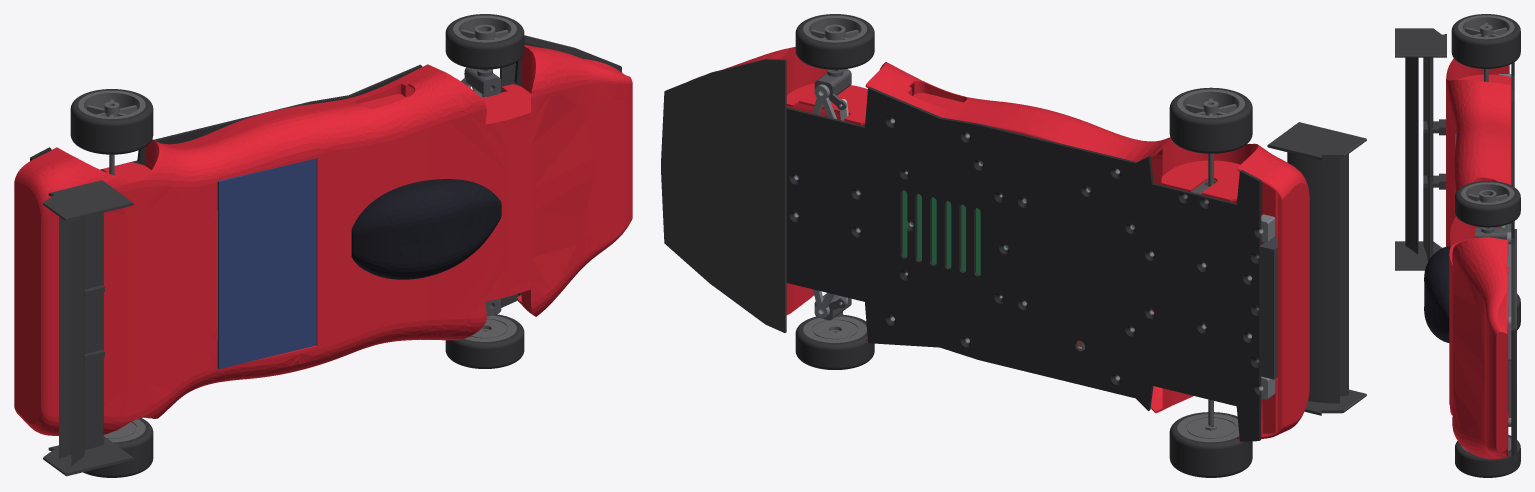
3 views of the same model, side by side, from view 1: azimuth 30°, elevation 25°; view 2: azimuth 150°, elevation 25°; view 3: azimuth 270°, elevation 25° (orthographic). The views are drawn at different scales.
Visible parts, largest first — view 1: body, panel, rear_wing, canopy, tyre_RL, tyre_FL, tyre_FR, floor, tyre_RR, rim_RL, rim_FL, splitter (+2 smaller); view 2: floor, splitter, body, rear_wing, tyre_RL, tyre_RR, diffuser, tyre_FL, tyre_FR, pi4, rim_RL, rim_RR (+4 smaller); view 3: body, rear_wing, tyre_RL, canopy, tyre_FL, floor, tyre_FR, rim_RL, rim_FL, front_module, splitter, front_upright_L.
Part boxes in pixels (x1,y1,x2,y2): body: (14,45,632,435); panel: (217,158,316,368); rear_wing: (43,180,133,476); canopy: (351,179,501,279); tyre_RL: (70,89,153,154); tyre_FL: (445,14,524,69); tyre_FR: (445,314,524,368); floor: (30,42,586,295); tyre_RR: (83,418,153,477); rim_RL: (78,90,145,118); rim_FL: (453,15,516,42); splitter: (500,35,622,307); floor: (786,87,1261,441); splitter: (661,58,786,332); body: (690,47,1309,439); rear_wing: (1267,122,1366,415); tyre_RL: (1169,87,1252,153); tyre_RR: (1169,412,1252,477); diffuser: (1255,236,1277,379); tyre_FL: (795,14,874,69); tyre_FR: (795,314,874,369); pi4: (902,190,1008,275); rim_RL: (1177,89,1244,117); rim_RR: (1177,413,1239,442); body: (1446,58,1511,458); rear_wing: (1395,28,1446,270); tyre_RL: (1451,14,1520,68); canopy: (1424,246,1450,342); tyre_FL: (1455,181,1520,227); floor: (1511,62,1514,455); tyre_FR: (1455,435,1520,477); rim_RL: (1458,15,1514,39); rim_FL: (1461,182,1514,204); front_module: (1507,232,1511,426); splitter: (1514,229,1516,460); front_upright_L: (1475,227,1506,239).
Bounding box in the file's own units: 388 × 210 × 80.
